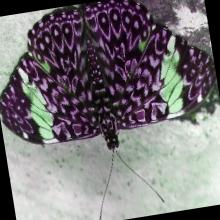butterfly: (0, 0, 216, 149)
